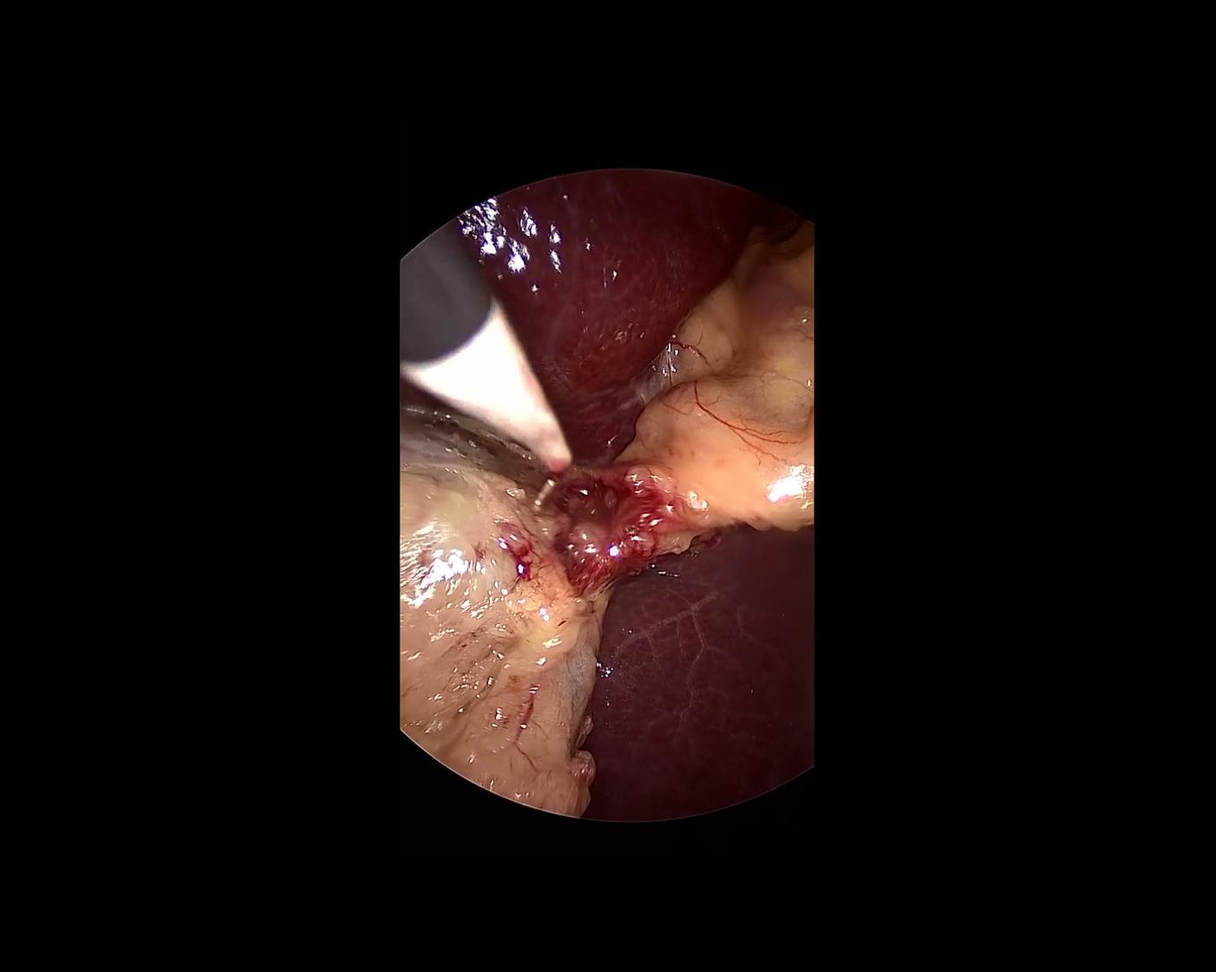Cautery: (357, 218, 603, 533), (357, 218, 573, 502)
Forceps: (358, 219, 573, 501)
Gallbladder: (384, 428, 609, 808)
Liver: (381, 53, 799, 481), (578, 532, 814, 820)
